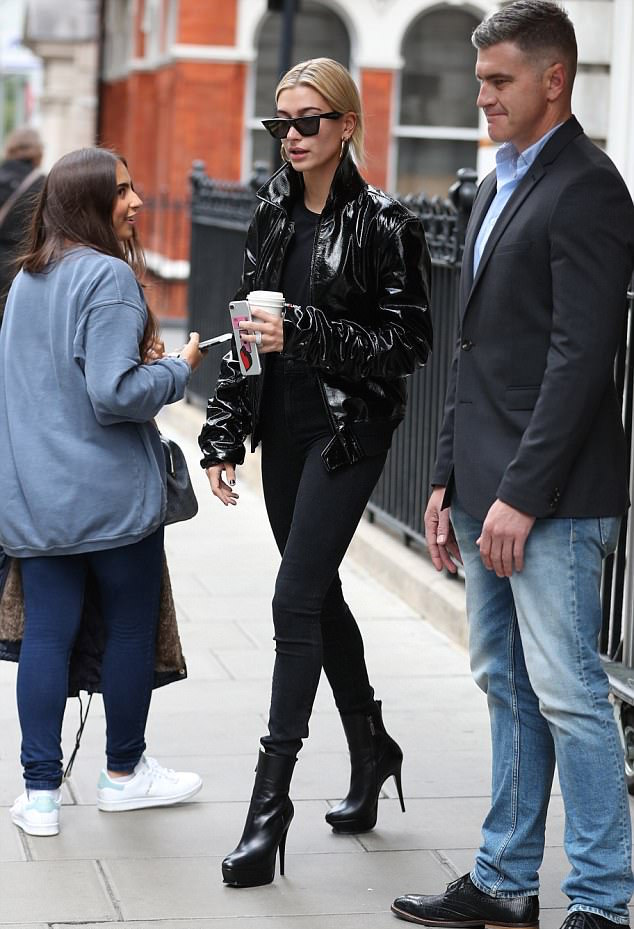jeans: (435, 484, 629, 915), (241, 415, 394, 771)
sunglasses: (252, 107, 333, 146)
